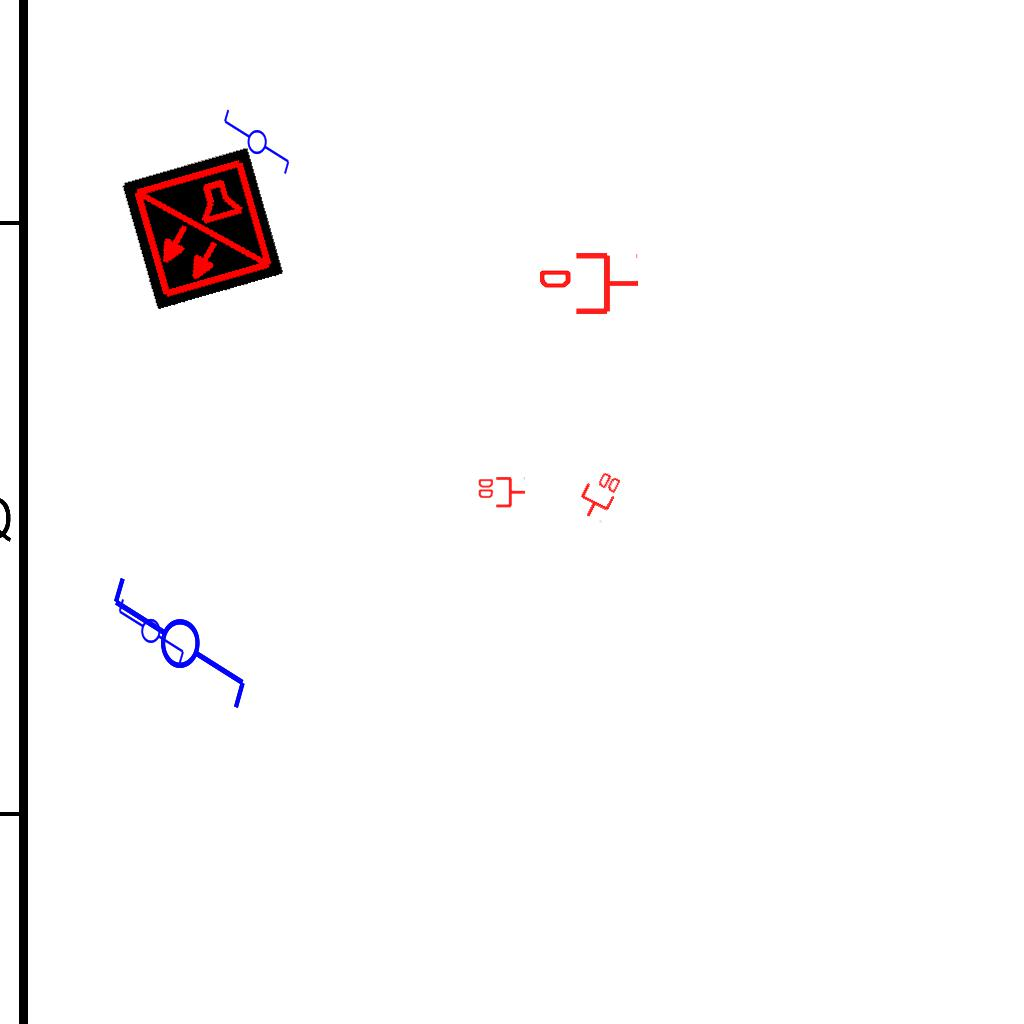Datenanschluss_einfach: (540, 249, 640, 318)
Datenanschluss_zweifach: (571, 464, 625, 525), (476, 476, 527, 510)
OKW_Multisensormelder_(Kombination_optischer_Rauch-Kahlenmonoxid_Waerme-Melder): (120, 147, 284, 311)
Wechselschalter: (106, 573, 250, 730), (220, 107, 292, 185), (116, 588, 188, 666)
